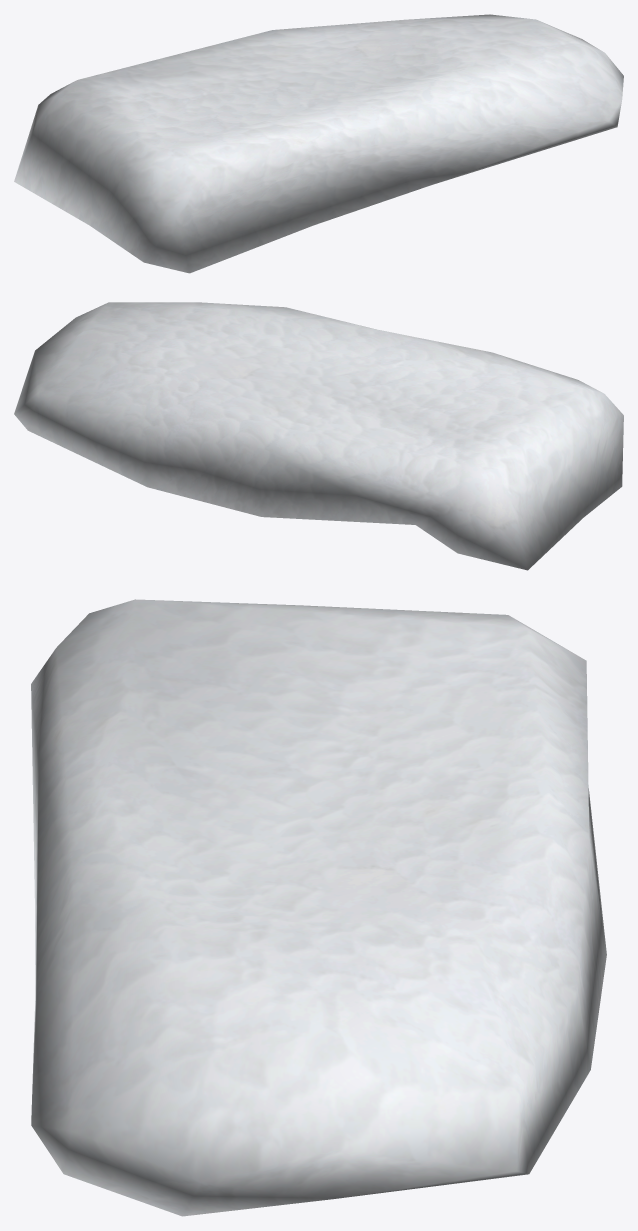
Rendered from snow02.fbx.
3 renders of one model, top to bottom at view 1: azimuth 30°, elevation 25°; view 2: azimuth 150°, elevation 25°; view 3: azimuth 270°, elevation 25°, orthographic. The views are drawn at different scales.
Parts seen in each view (by area): view 1: snow02; view 2: snow02; view 3: snow02.
Boxes of the visible parts, left/top/right/bottom form: snow02: left=14, top=14, right=623, bottom=273; snow02: left=14, top=302, right=623, bottom=570; snow02: left=31, top=599, right=606, bottom=1216.
Bounding box in the file's own units: 362 × 70.77 × 171.
